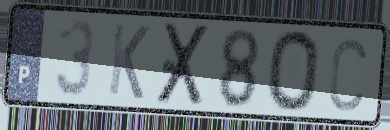3: (55, 16, 95, 101)
8: (217, 26, 262, 110)
C: (326, 34, 369, 114)
K: (105, 20, 152, 103)
O: (265, 27, 323, 115)
X: (153, 20, 214, 107)
